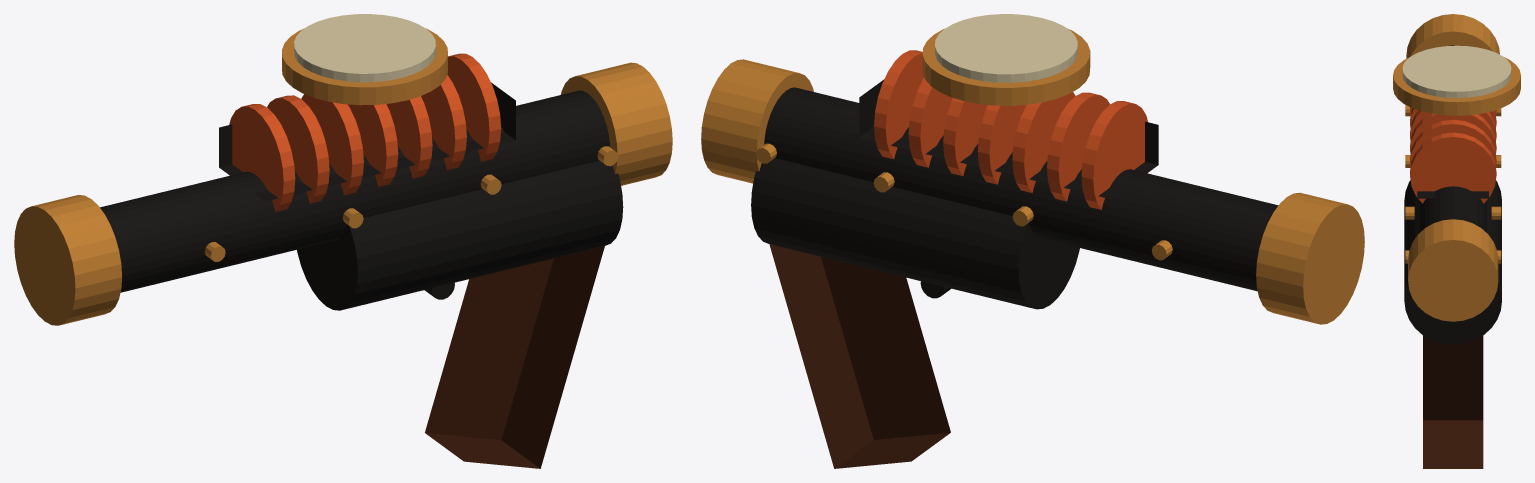
File: HF_PressurePistol_LookdevBlockout.obj
The picture shows the model from 3 angles, left to right: view 1: azimuth 30°, elevation 25°; view 2: azimuth 150°, elevation 25°; view 3: azimuth 270°, elevation 25°; orthographic projection. The views are drawn at different scales.
Visible parts, largest first — view 1: blackened_pressure_barrel, lower_pressure_reservoir, dark_leather_grip, muzzle_brass_ring, top_pressure_gauge_face, rear_brass_cap, top_gauge_brass_bezel, copper_pressure_coil_0, copper_pressure_coil_1, copper_pressure_coil_6, copper_pressure_coil_2, coil_guard_frame (+3 smaller); view 2: blackened_pressure_barrel, lower_pressure_reservoir, dark_leather_grip, muzzle_brass_ring, top_pressure_gauge_face, rear_brass_cap, top_gauge_brass_bezel, copper_pressure_coil_0, copper_pressure_coil_1, copper_pressure_coil_6, copper_pressure_coil_2, coil_guard_frame (+3 smaller); view 3: dark_leather_grip, rear_brass_cap, top_pressure_gauge_face, copper_pressure_coil_6, lower_pressure_reservoir, top_gauge_brass_bezel, muzzle_brass_ring, blackened_pressure_barrel, copper_pressure_coil_5, copper_pressure_coil_4, copper_pressure_coil_3, coil_guard_frame (+1 smaller).
Part boxes in pixels (x1,y1,x2,y2): blackened_pressure_barrel: (100,90,609,292); lower_pressure_reservoir: (297,160,623,310); dark_leather_grip: (425,245,605,468); muzzle_brass_ring: (14,195,122,325); top_pressure_gauge_face: (294,14,435,82); rear_brass_cap: (561,62,672,185); top_gauge_brass_bezel: (282,28,447,105); copper_pressure_coil_0: (229,104,295,211); copper_pressure_coil_1: (267,95,329,203); copper_pressure_coil_6: (447,53,501,161); copper_pressure_coil_2: (301,94,363,195); coil_guard_frame: (219,82,515,201); blackened_pressure_barrel: (764,87,1278,291); lower_pressure_reservoir: (751,158,1079,309); dark_leather_grip: (769,243,950,468); muzzle_brass_ring: (1256,192,1364,324); top_pressure_gauge_face: (935,14,1077,82); rear_brass_cap: (701,59,813,183); top_gauge_brass_bezel: (922,29,1090,105); copper_pressure_coil_0: (1081,101,1147,209); copper_pressure_coil_1: (1047,92,1109,201); copper_pressure_coil_6: (874,50,924,159); copper_pressure_coil_2: (1012,92,1075,192); coil_guard_frame: (859,79,1158,199); dark_leather_grip: (1423,335,1483,468); rear_brass_cap: (1408,219,1498,321); top_pressure_gauge_face: (1402,45,1511,98); copper_pressure_coil_6: (1410,132,1496,203); lower_pressure_reservoir: (1404,180,1501,344); top_gauge_brass_bezel: (1393,57,1520,115); muzzle_brass_ring: (1406,14,1499,58); blackened_pressure_barrel: (1419,45,1486,232); copper_pressure_coil_5: (1410,119,1496,166); copper_pressure_coil_4: (1410,113,1496,153); copper_pressure_coil_3: (1410,110,1496,140); coil_guard_frame: (1417,191,1488,198).
Bounding box in the file's own units: 2.82 × 2.01 × 0.68.
